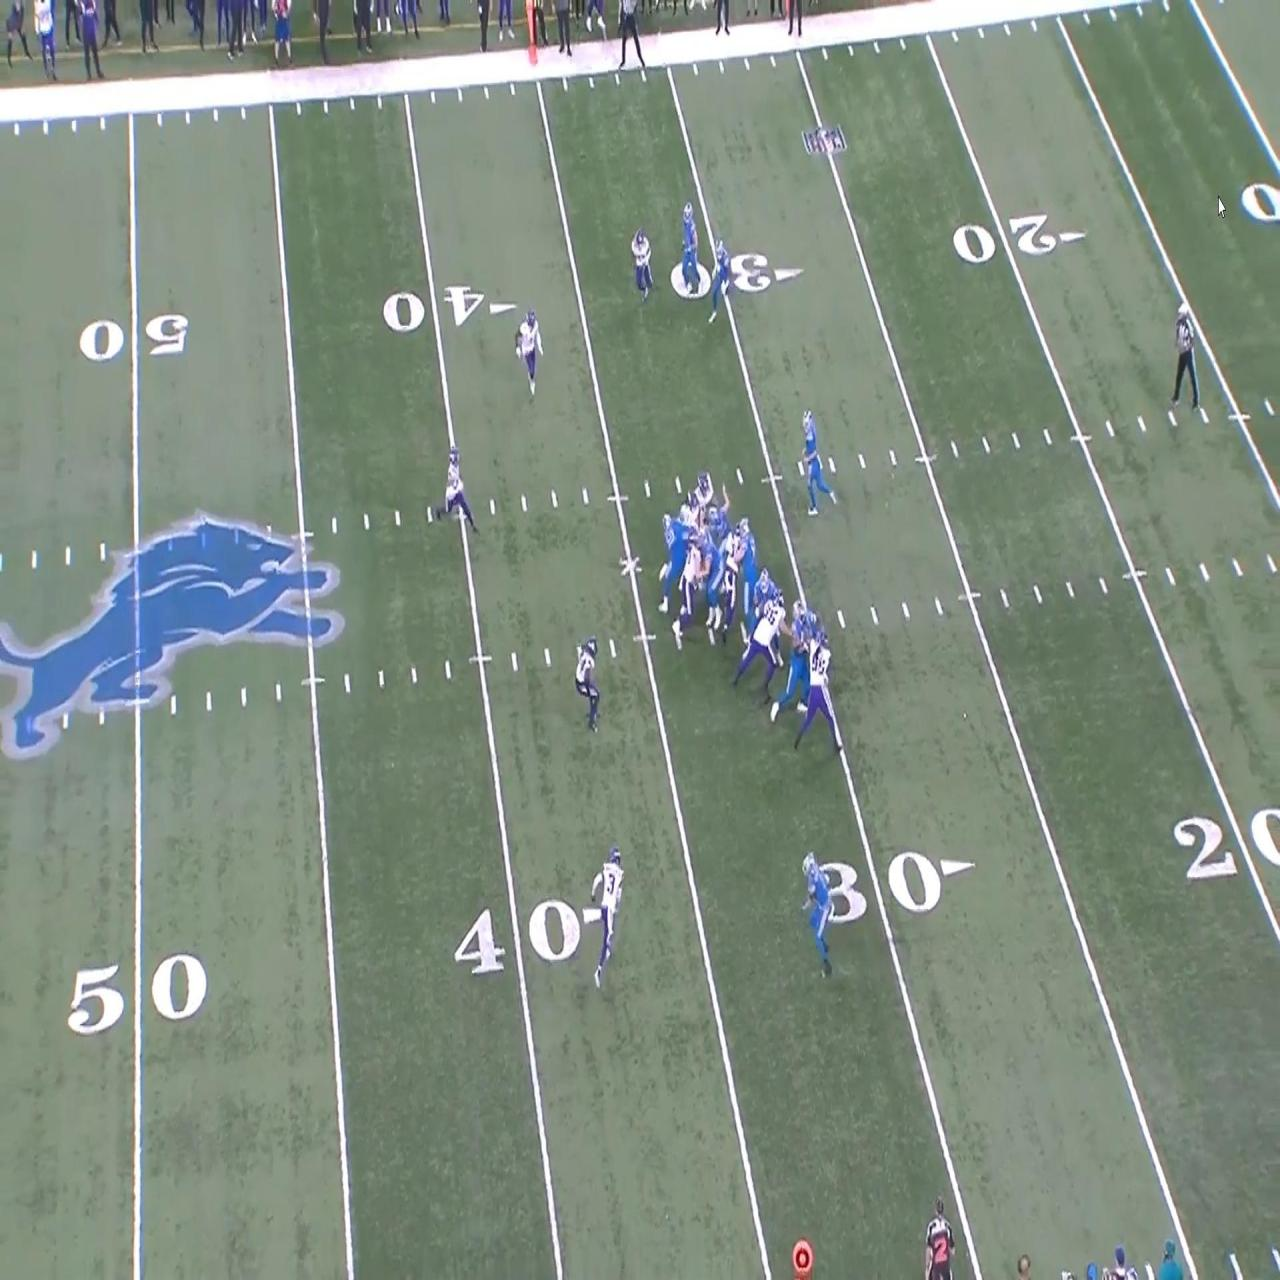20R: (1175, 810, 1280, 880), (953, 215, 1087, 266)
30R: (813, 860, 975, 924), (670, 251, 804, 301)
40R: (452, 897, 619, 973), (382, 285, 518, 333)
50: (68, 951, 206, 1039), (80, 314, 189, 362)
